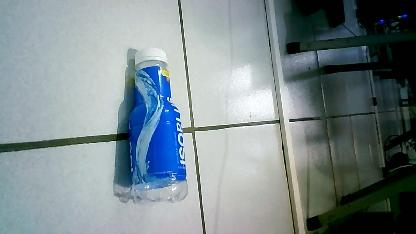Plastic Bottle: (119, 42, 197, 206)
